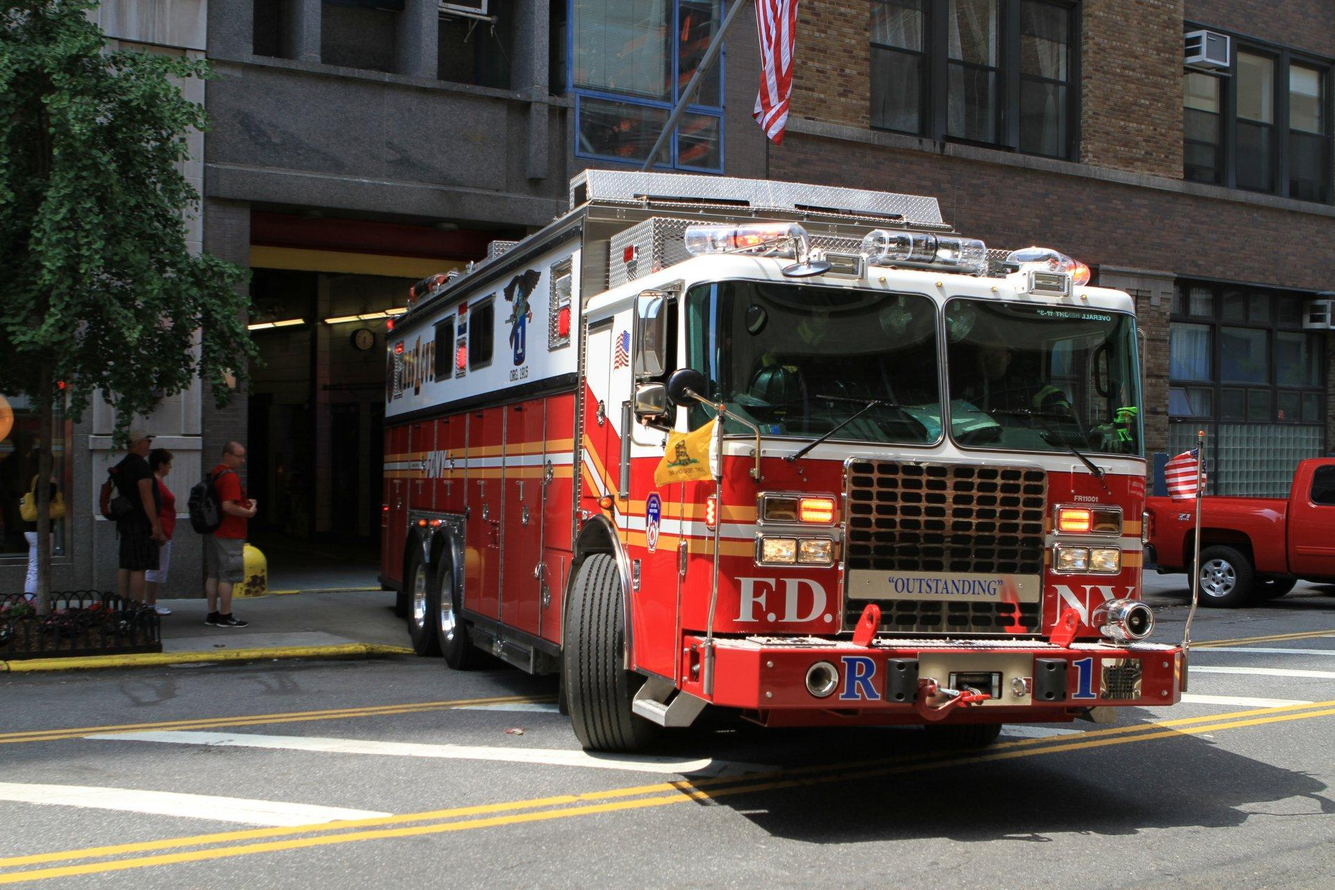Fire-engine: (380, 171, 1188, 756)
